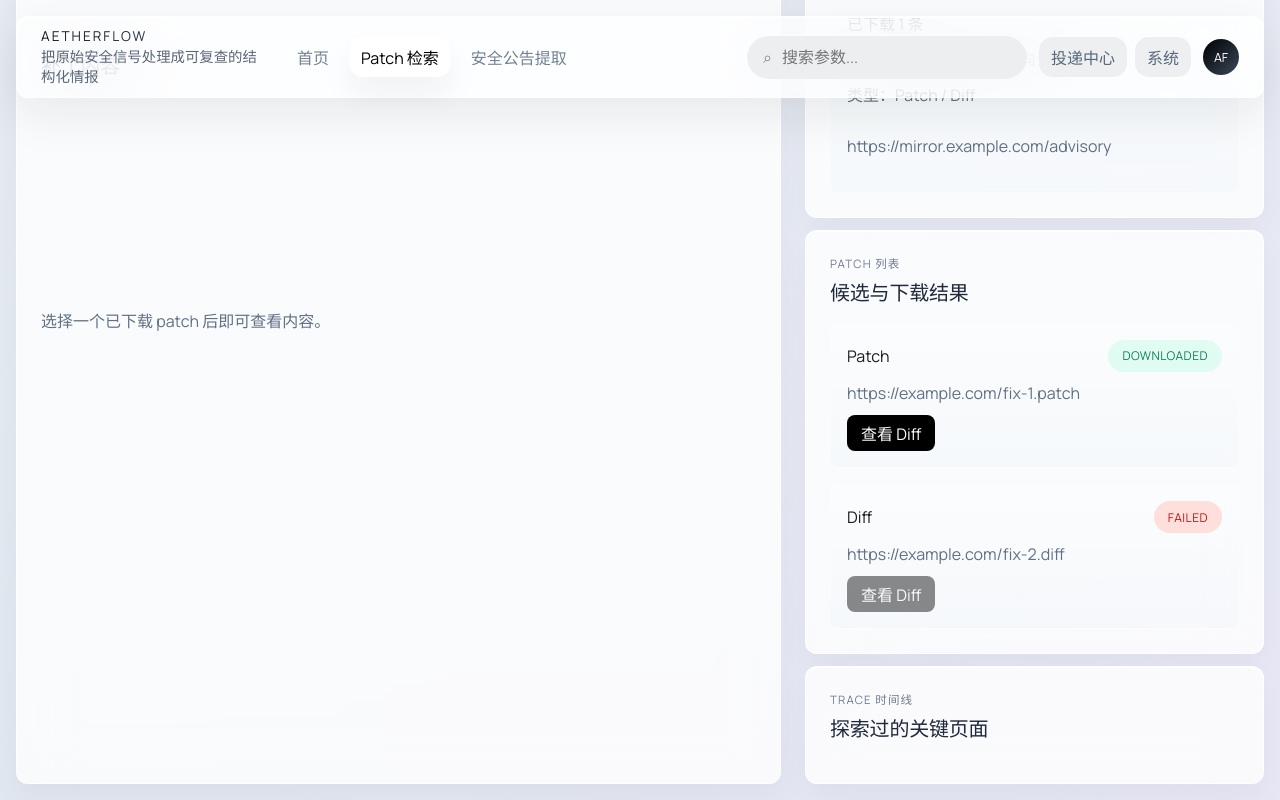
Scenario: detail page renders fix family summary before patch list
(page scrolled)
expect the text "已下载 1 条" is shown: met, box [847, 13, 924, 35]
expect the text "另有 1 个关联来源共同指向该 fix" is shown: met, box [847, 48, 1073, 70]
Step 1. Click the button "查看 Diff" below "downloaded" → coordinates (891, 433), box [847, 415, 935, 451]
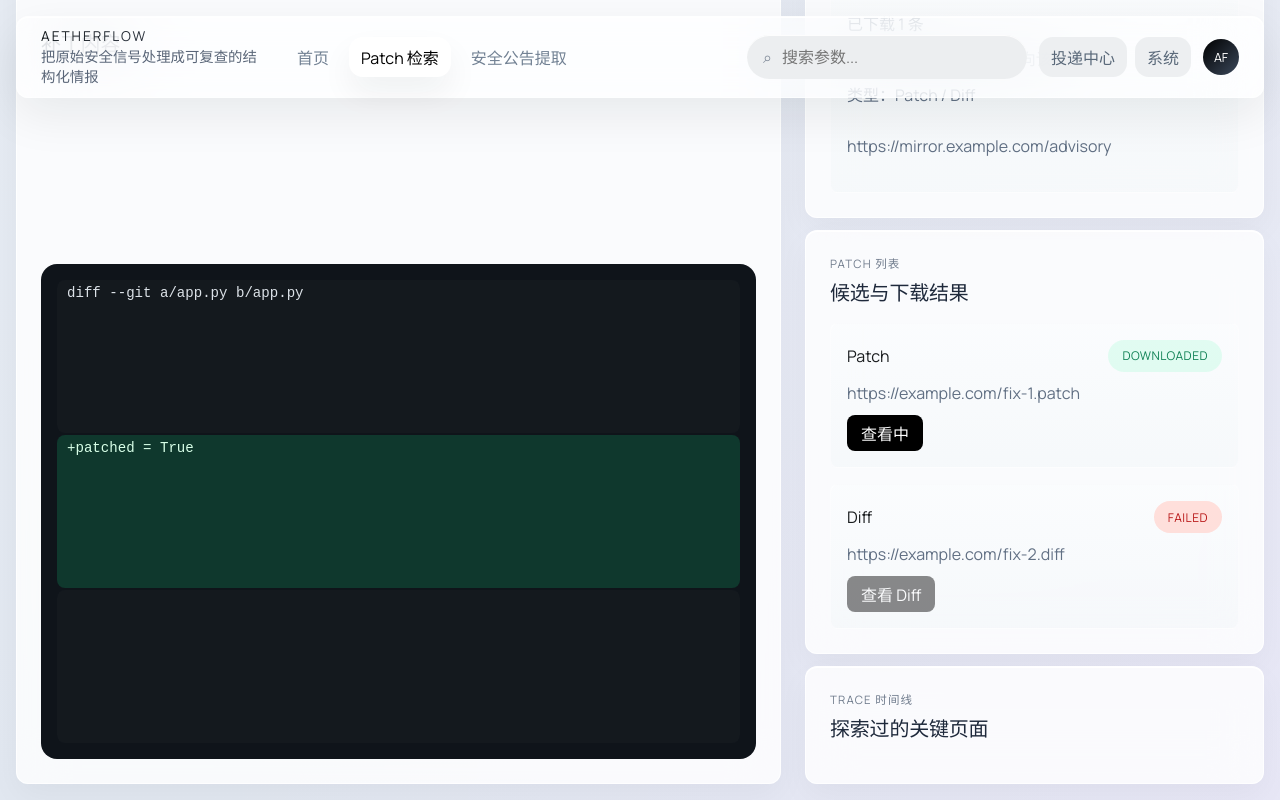
expect the text "+patched = True" is shown: met, box [57, 435, 740, 588]
